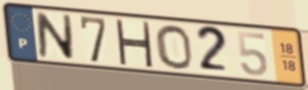2: (193, 24, 235, 78)
5: (236, 30, 270, 78)
7: (79, 14, 108, 64)
H: (113, 18, 155, 70)
N: (34, 10, 77, 62)
O: (153, 23, 195, 71)
